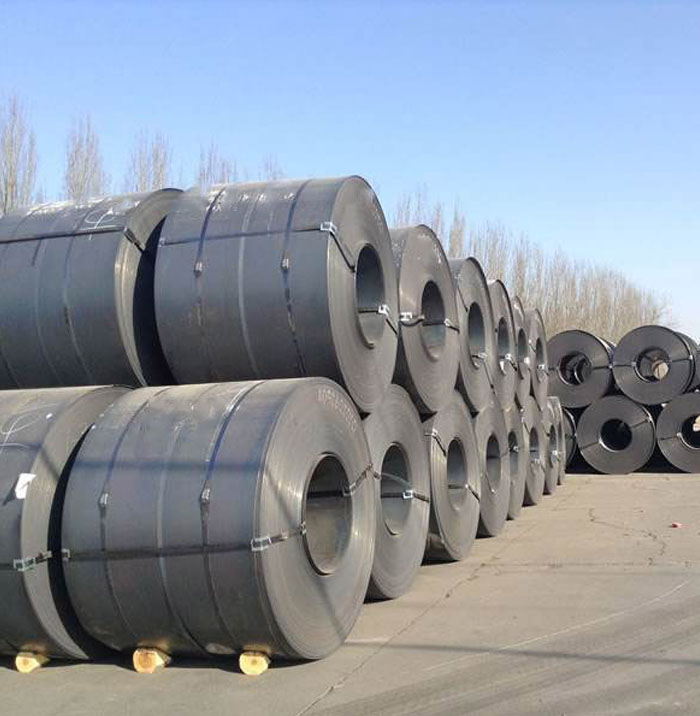steel-coil: (1, 381, 574, 608), (14, 182, 561, 394), (55, 374, 383, 608), (108, 374, 383, 608), (179, 170, 404, 383), (575, 399, 661, 484), (616, 320, 688, 397)
